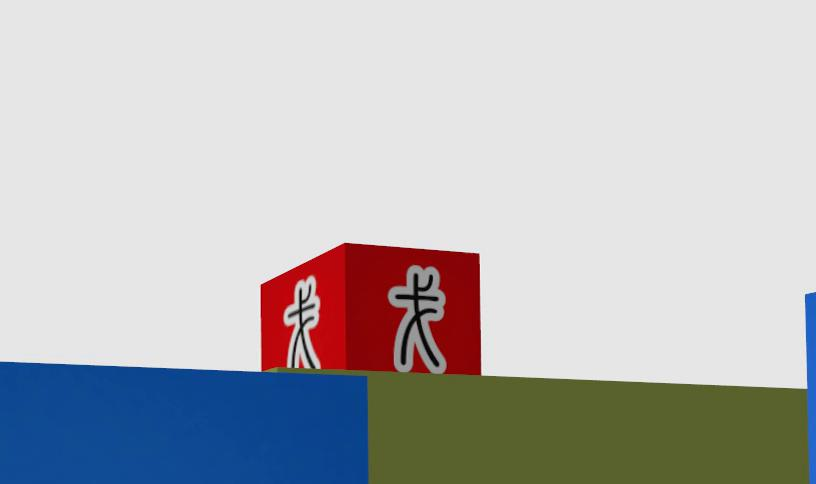KFS_FAKE: (261, 244, 481, 374), (388, 266, 446, 372), (283, 276, 320, 367)
KFS_REAL: (0, 363, 368, 484)
